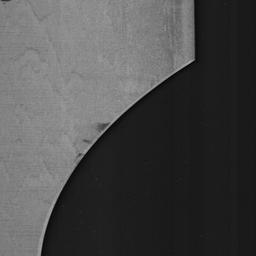Crescent gap: (41, 62, 195, 256)
